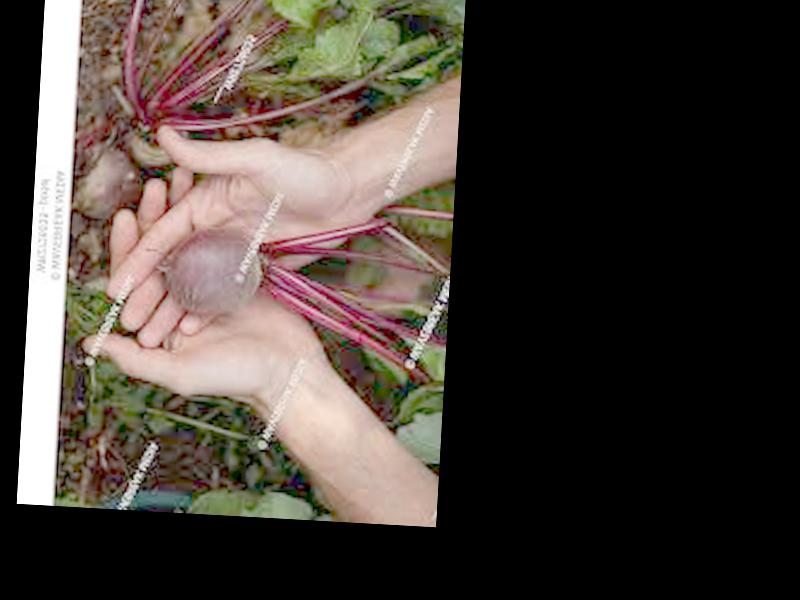Beet: (150, 204, 444, 388)
